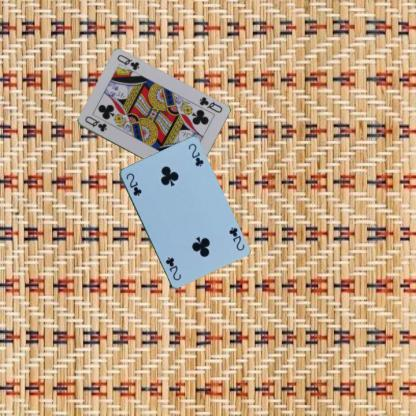2c: (123, 170, 143, 197), (226, 224, 245, 252)
Qc: (196, 94, 224, 115), (82, 113, 108, 134)
